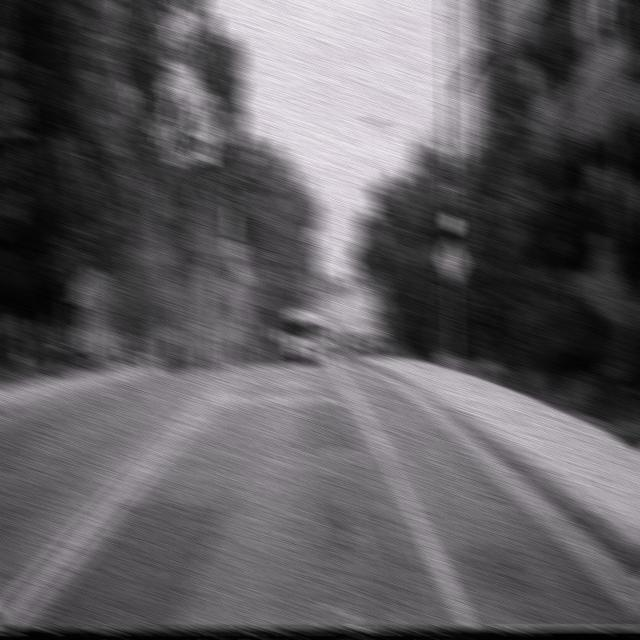pedestrianCrossing: (436, 234, 467, 284)
